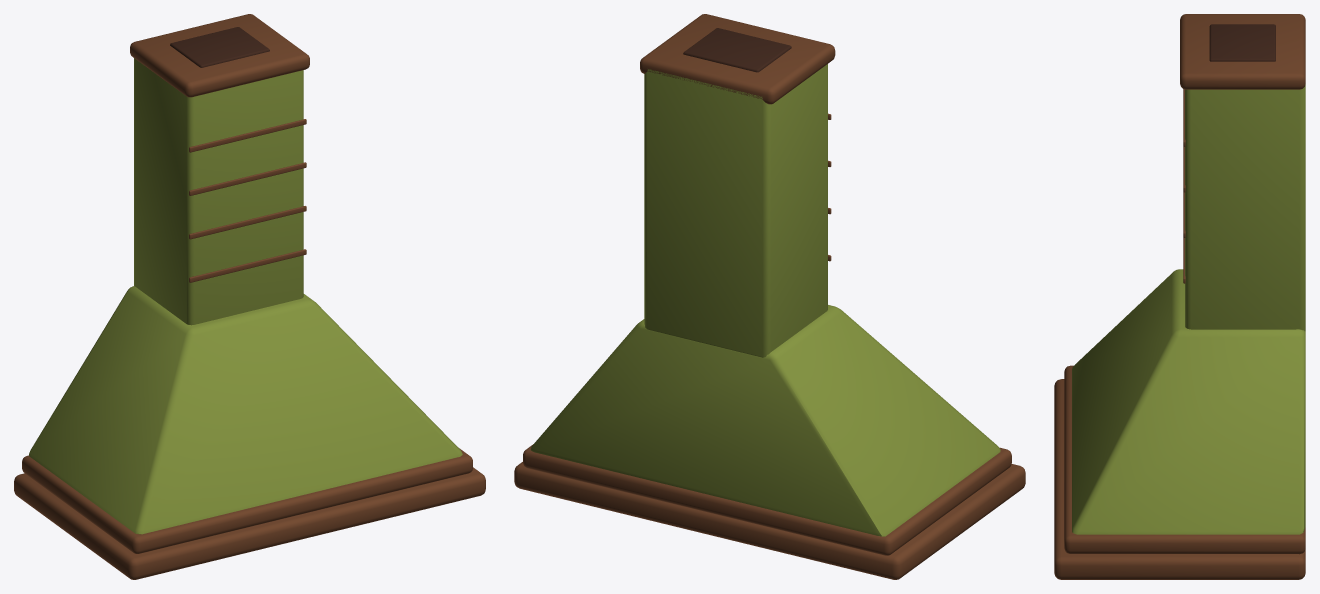
Rendered from coifa_quadrada_verde.glb.
The picture shows the model from 3 angles, left to right: view 1: azimuth 30°, elevation 25°; view 2: azimuth 150°, elevation 25°; view 3: azimuth 270°, elevation 25°; orthographic projection. The views are drawn at different scales.
Parts seen in each view (by area): view 1: coifa_quadrada_verde; view 2: coifa_quadrada_verde; view 3: coifa_quadrada_verde.
Part boxes in pixels (x1,y1,x2,y2): coifa_quadrada_verde: (14,14,485,579); coifa_quadrada_verde: (514,14,1025,579); coifa_quadrada_verde: (1054,14,1305,579).
Size of the model in its own units: 0.86 by 0.989 by 0.5.
2 materials, 1 textured.
